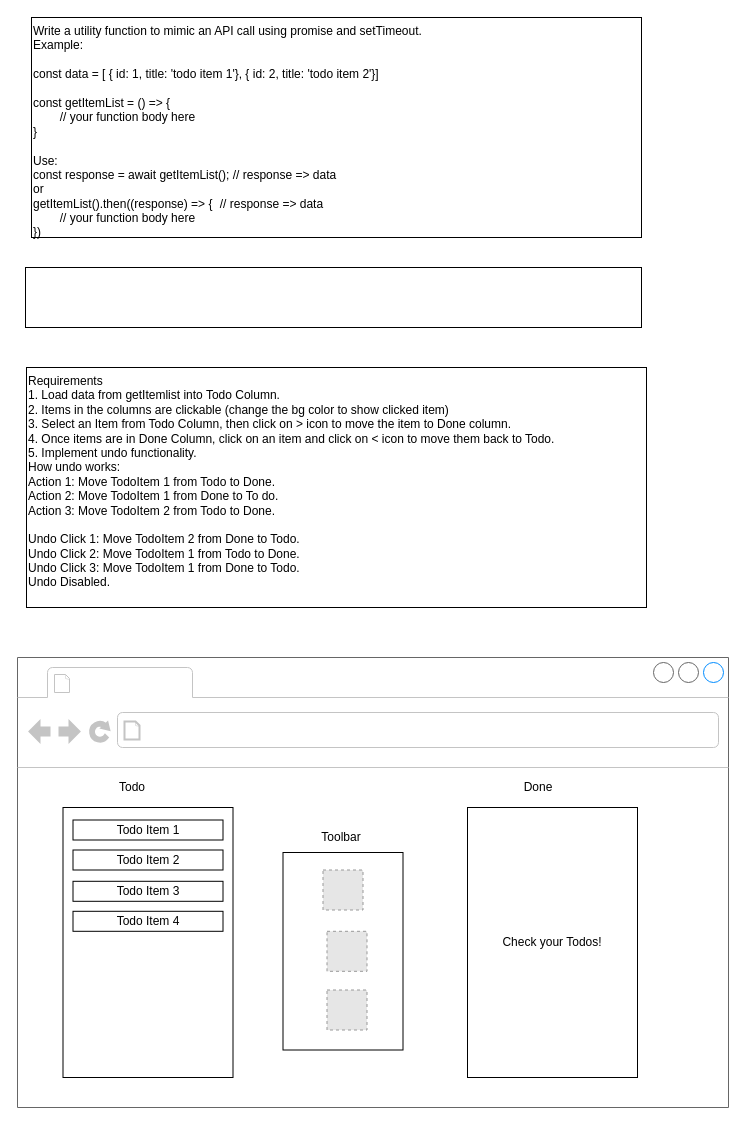
The diagram is 746 pixels wide and 1125 high, and some of its shapes have lost their labels. Grey dashed boxes stand in for pictures. Each missing label, with the centre of its shape:
"https://www.draw.io" goes at point (272, 730).
"Page 1" goes at point (132, 682).
"Write a customHooks to make API calls and use it in the next step." goes at point (333, 297).
